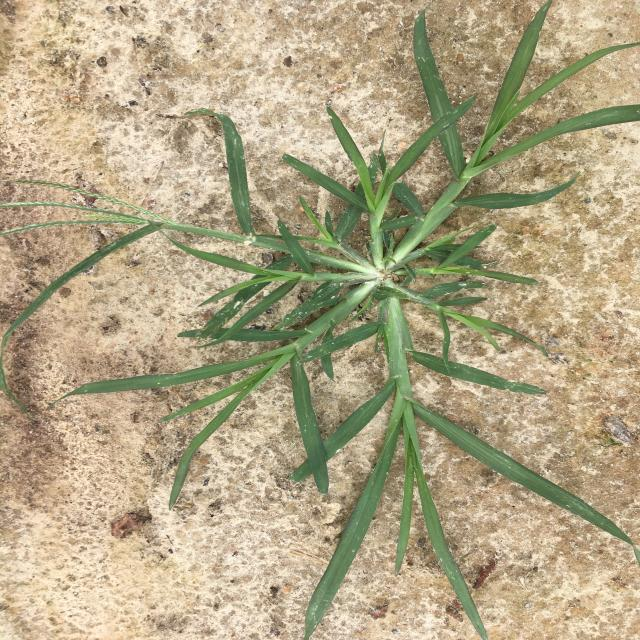Goosegrass: (1, 0, 639, 639)
